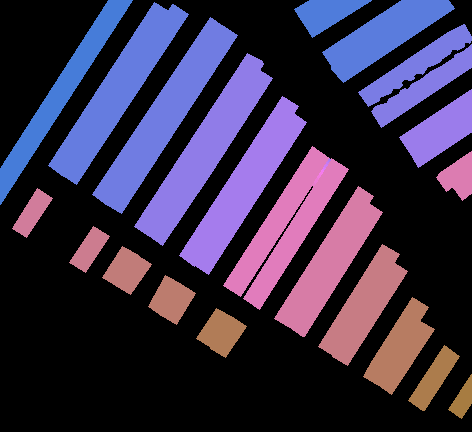parkingspot: (0, 0, 132, 204), (92, 17, 223, 205), (106, 25, 237, 213), (134, 53, 263, 236), (61, 4, 188, 184), (148, 69, 272, 245), (48, 2, 170, 176), (179, 96, 298, 266), (193, 112, 306, 274), (223, 146, 329, 296), (243, 158, 348, 309), (274, 186, 373, 327), (288, 202, 382, 336), (331, 0, 454, 82), (358, 24, 472, 106), (318, 244, 399, 356), (371, 43, 472, 127), (332, 262, 407, 365), (322, 0, 436, 67), (363, 297, 428, 385), (399, 88, 472, 152), (377, 320, 434, 394), (408, 108, 472, 167), (408, 345, 459, 410), (302, 0, 371, 37), (12, 188, 52, 237), (69, 226, 109, 272), (436, 150, 472, 191), (210, 316, 246, 357), (102, 246, 138, 286), (115, 254, 151, 294), (196, 308, 232, 348), (161, 284, 195, 324), (148, 275, 181, 316), (294, 0, 342, 23), (448, 372, 472, 418), (452, 171, 472, 200)
